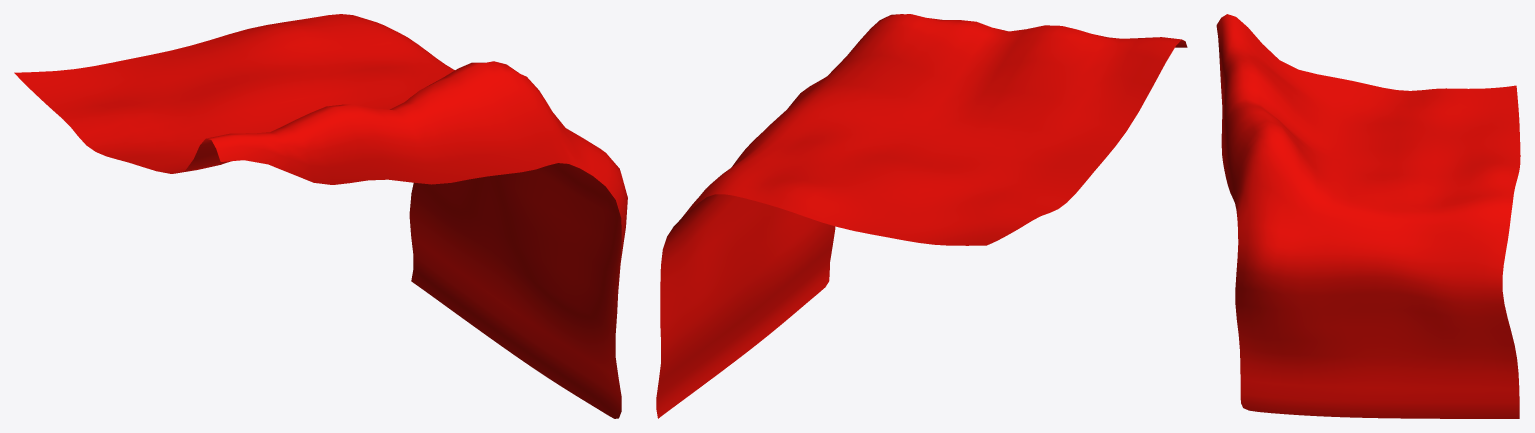
The picture shows the model from 3 angles, left to right: view 1: azimuth 30°, elevation 25°; view 2: azimuth 150°, elevation 25°; view 3: azimuth 270°, elevation 25°; orthographic projection. The views are drawn at different scales.
Parts seen in each view (by area): view 1: T4; view 2: T4; view 3: T4.
Part boxes in pixels (box(x1,y1,x2,y2)): T4: box(14, 14, 627, 418); T4: box(656, 14, 1187, 418); T4: box(1216, 14, 1520, 418).
Size of the model in its own units: 6055 by 5312 by 5444.
